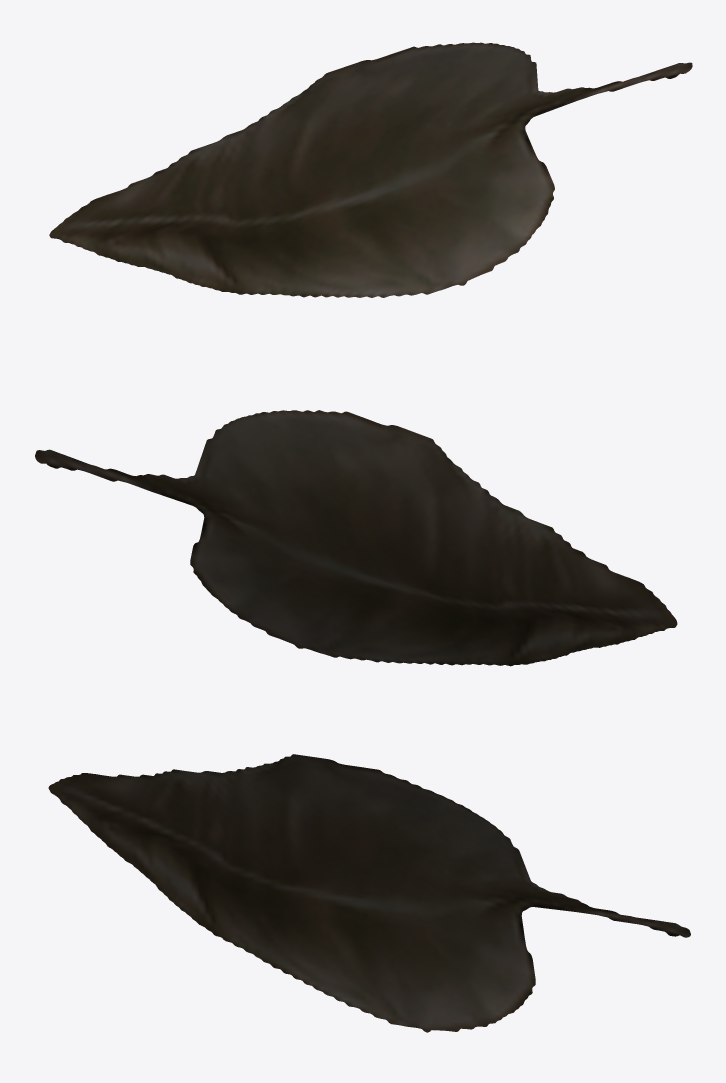
File: TI_Old_Foliage_03.fbx
3 renders of one model, top to bottom at view 1: azimuth 30°, elevation 25°; view 2: azimuth 150°, elevation 25°; view 3: azimuth 330°, elevation 25°, orthographic.
Visible parts, largest first — view 1: TI_Old_Foliage_03; view 2: TI_Old_Foliage_03; view 3: TI_Old_Foliage_03.
Part boxes in pixels (bbox=[...]): TI_Old_Foliage_03: bbox=[49, 42, 692, 297]; TI_Old_Foliage_03: bbox=[35, 410, 677, 666]; TI_Old_Foliage_03: bbox=[48, 754, 690, 1032].
Bounding box in the file's own units: 0.3328 × 0.1527 × 0.0197.
